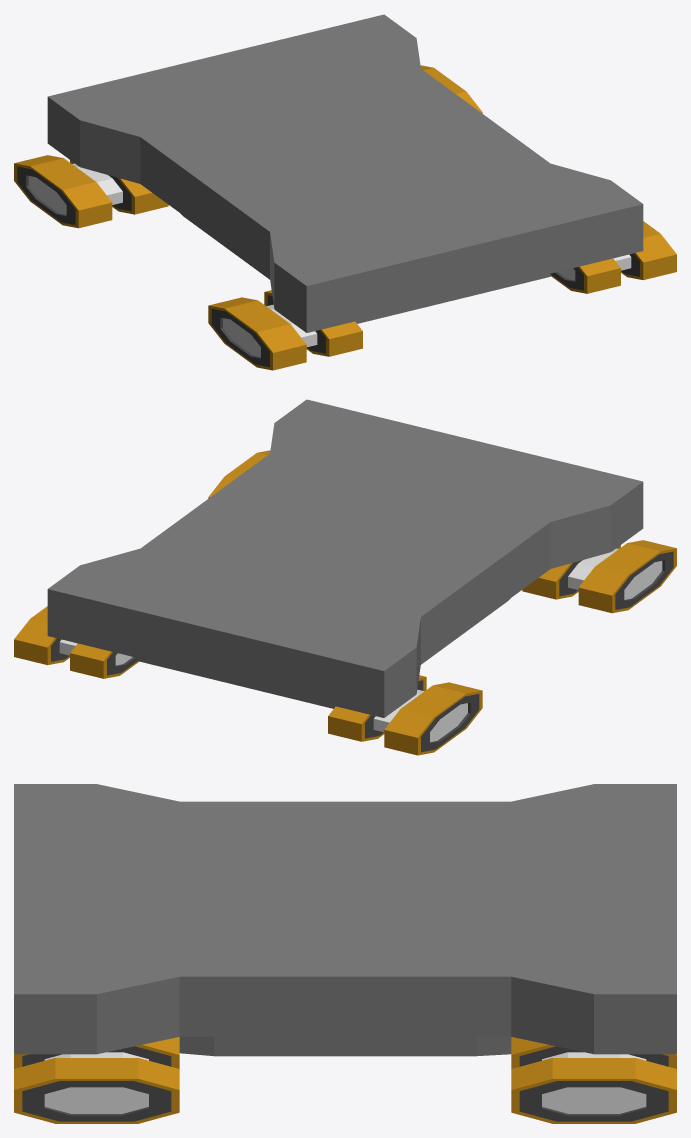
The model's file is Crawler.fbx.
The picture shows the model from 3 angles, top to bottom: view 1: azimuth 30°, elevation 25°; view 2: azimuth 150°, elevation 25°; view 3: azimuth 270°, elevation 25°; orthographic projection. The views are drawn at different scales.
Visible parts, largest first — view 1: Crawler; view 2: Crawler; view 3: Crawler.
Boxes of the visible parts, x1,y1,x2,y2 form: Crawler: (14, 14, 676, 370); Crawler: (14, 399, 676, 755); Crawler: (14, 784, 676, 1123).
Bounding box in the file's own units: 720 × 145 × 800.
